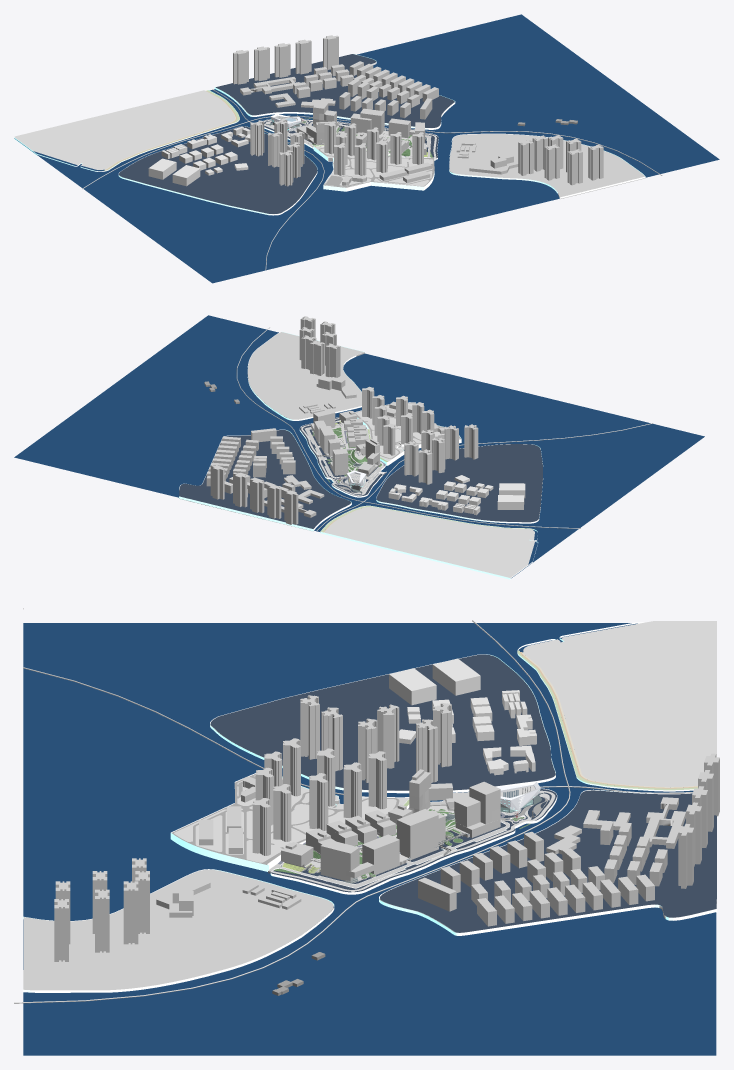
3 views of the same model, one above another, from view 1: azimuth 30°, elevation 25°; view 2: azimuth 150°, elevation 25°; view 3: azimuth 270°, elevation 25° (orthographic). The views are drawn at different scales.
Visible parts, largest first — view 1: ground, building-outside, reflect-plane-5.001, reflect-plane-3, reflect-plane-4, reflect-plane-1, building-inside, Group9, Group2, road-light, light-border.004, light-border.005 (+2 smaller); view 2: ground, building-outside, reflect-plane-5.001, reflect-plane-3, reflect-plane-4, reflect-plane-1, building-inside, Group9, light-border.001, reflect-plane, Group2, light-border.003 (+1 smaller); view 3: ground, building-outside, reflect-plane-5.001, reflect-plane-4, reflect-plane-3, reflect-plane-1, building-inside, Group9, reflect-plane, Group2, light-border.003, road-light (+6 smaller).
Boxes of the visible parts, box(x1,y1,x2,y2) form: ground: box(14, 14, 719, 283); building-outside: box(148, 35, 603, 186); reflect-plane-5.001: box(14, 90, 234, 169); reflect-plane-3: box(119, 126, 317, 213); reflect-plane-4: box(449, 134, 644, 197); reflect-plane-1: box(216, 54, 454, 127); building-inside: box(296, 101, 426, 154); Group9: box(313, 145, 434, 187); Group2: box(15, 90, 239, 170); road-light: box(82, 115, 662, 189); light-border.004: box(313, 145, 434, 191); light-border.005: box(449, 133, 645, 198); ground: box(14, 315, 704, 578); building-outside: box(206, 316, 525, 524); reflect-plane-5.001: box(325, 507, 534, 577); reflect-plane-3: box(376, 444, 542, 522); reflect-plane-4: box(247, 332, 364, 419); reflect-plane-1: box(179, 430, 351, 528); building-inside: box(311, 409, 380, 476); Group9: box(355, 402, 460, 461); light-border.001: box(320, 505, 538, 579); reflect-plane: box(299, 417, 382, 496); Group2: box(321, 506, 534, 577); light-border.003: box(179, 429, 351, 531); ground: box(23, 623, 716, 1055); building-outside: box(54, 658, 719, 961); reflect-plane-5.001: box(523, 621, 716, 785); reflect-plane-4: box(23, 869, 333, 990); reflect-plane-3: box(210, 654, 555, 790); reflect-plane-1: box(380, 790, 716, 932); building-inside: box(281, 769, 500, 881); Group9: box(172, 774, 409, 864); reflect-plane: box(271, 789, 556, 892); Group2: box(517, 639, 697, 790); light-border.003: box(379, 789, 717, 935); road-light: box(14, 620, 570, 1003).
Bounding box in the file's own units: 15.76 × 0.9967 × 10.56.
